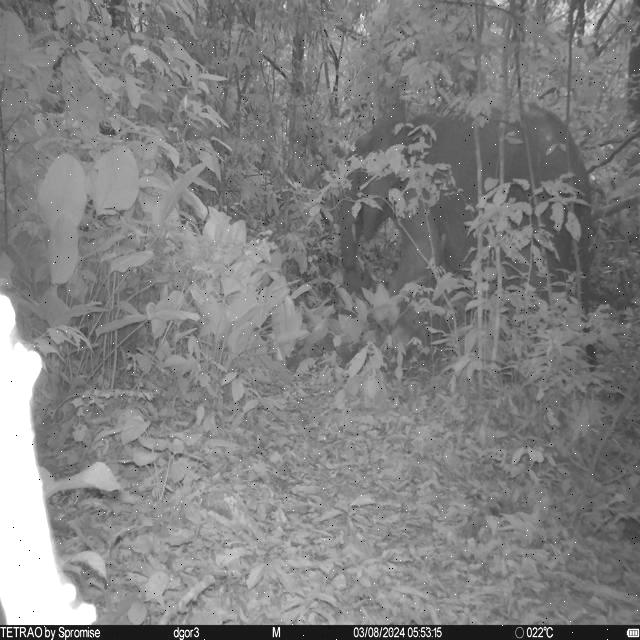elephant: (339, 102, 592, 332)
tusk: (350, 223, 358, 244)
